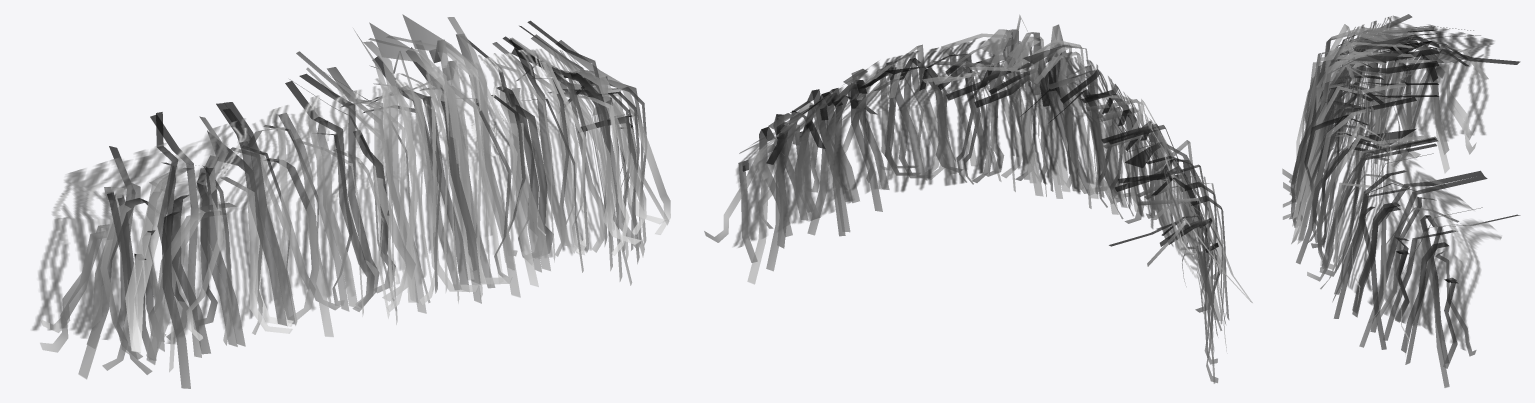
The model's file is facial_moustache.gltf.
The picture shows the model from 3 angles, left to right: view 1: azimuth 30°, elevation 25°; view 2: azimuth 150°, elevation 25°; view 3: azimuth 270°, elevation 25°; orthographic projection. The views are drawn at different scales.
Visible parts, largest first — view 1: facial_moustache; view 2: facial_moustache; view 3: facial_moustache.
Part boxes in pixels (bbox=[...]): facial_moustache: bbox=[32, 14, 670, 388]; facial_moustache: bbox=[704, 14, 1252, 383]; facial_moustache: bbox=[1282, 14, 1520, 387].
Bounding box in the file's own units: 0.0648 × 0.0333 × 0.0281.
Materials: 1 (1 with a texture image).
